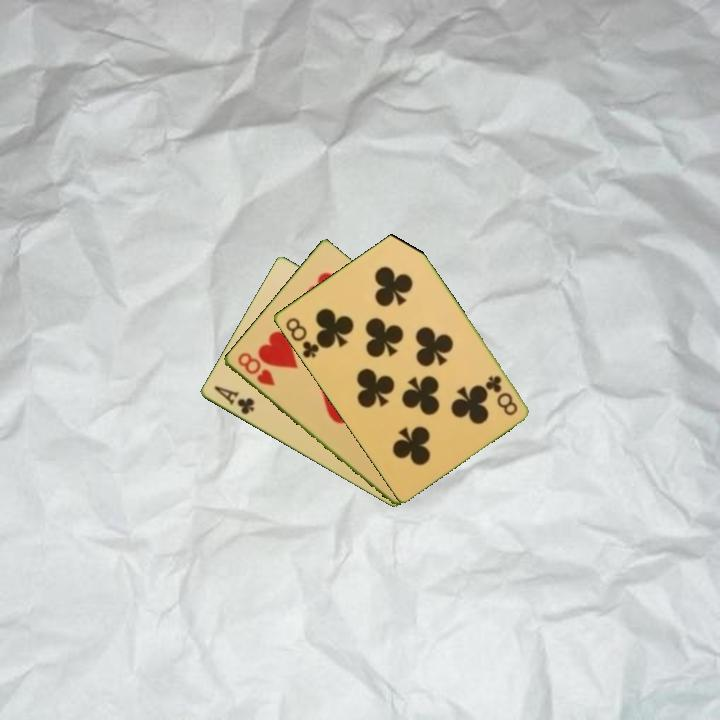8c: (282, 314, 322, 361), (481, 372, 520, 419)
8h: (233, 349, 278, 389)
Ac: (210, 382, 257, 417)
